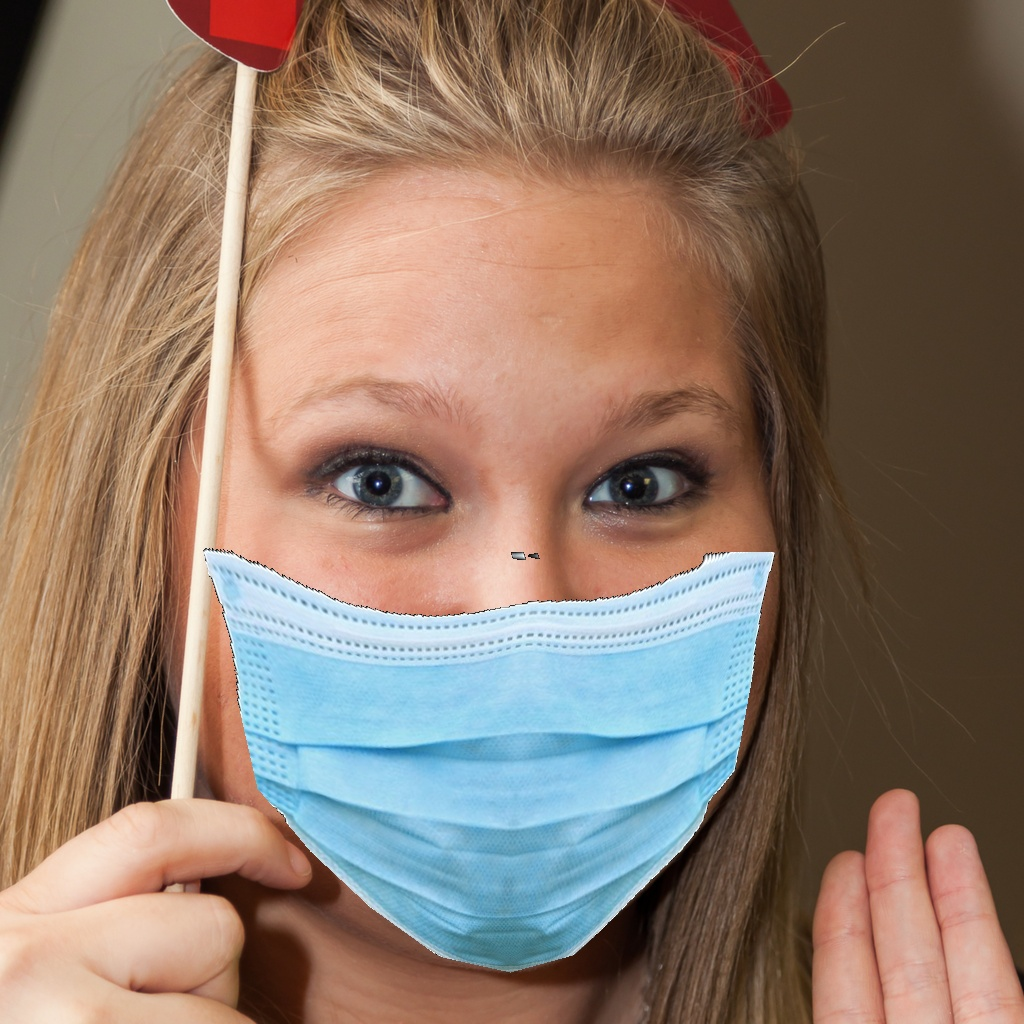Mask: (191, 351, 784, 979)
